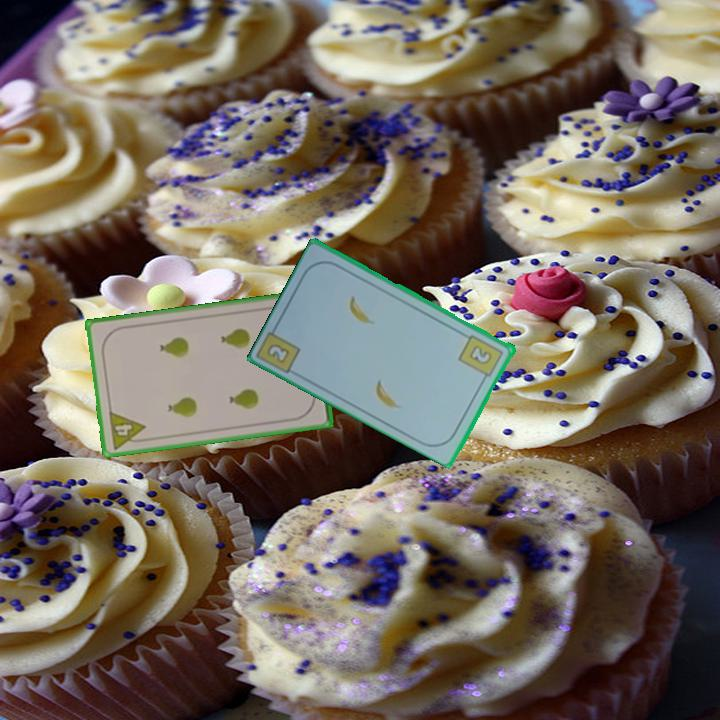2b: (455, 331, 507, 384), (264, 340, 293, 366)
4p: (105, 408, 150, 452)
